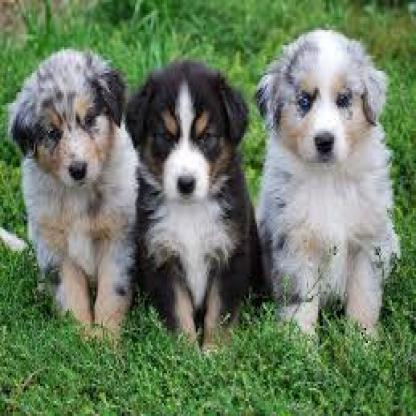Australian Shepherd: (250, 20, 404, 323), (5, 32, 134, 326), (125, 46, 250, 332)
